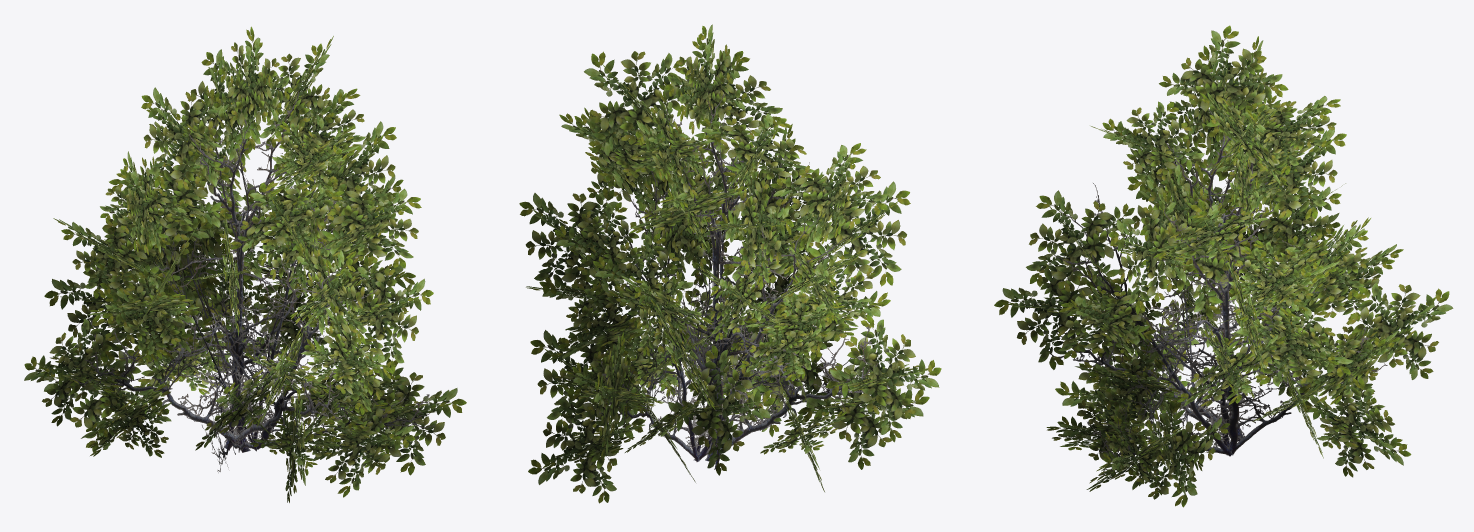
The model's file is shrub_b.glb.
The picture shows the model from 3 angles, left to right: view 1: azimuth 30°, elevation 25°; view 2: azimuth 150°, elevation 25°; view 3: azimuth 270°, elevation 25°; orthographic projection. The views are drawn at different scales.
Visible parts, largest first — view 1: bush-02; view 2: bush-02; view 3: bush-02.
Boxes of the visible parts, x1,y1,x2,y2 form: bush-02: (24, 26, 466, 502); bush-02: (519, 24, 941, 503); bush-02: (994, 25, 1453, 507).
Size of the model in its own units: 1.25 by 1.3 by 1.23.
Materials: 2 (2 with a texture image).
